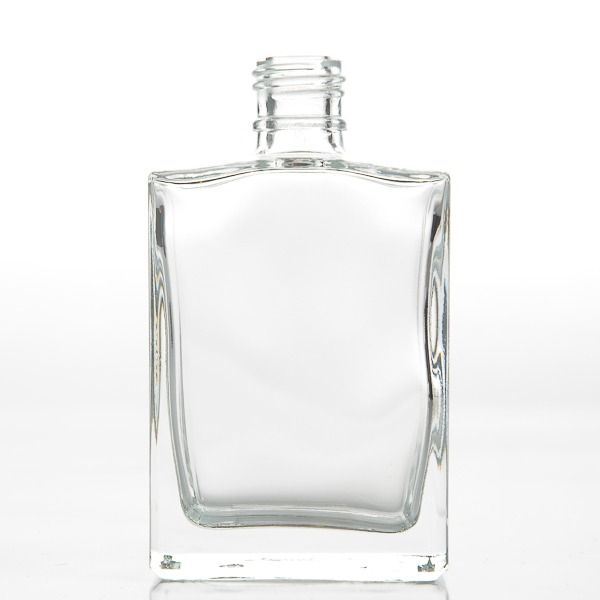container: (125, 49, 494, 599)
